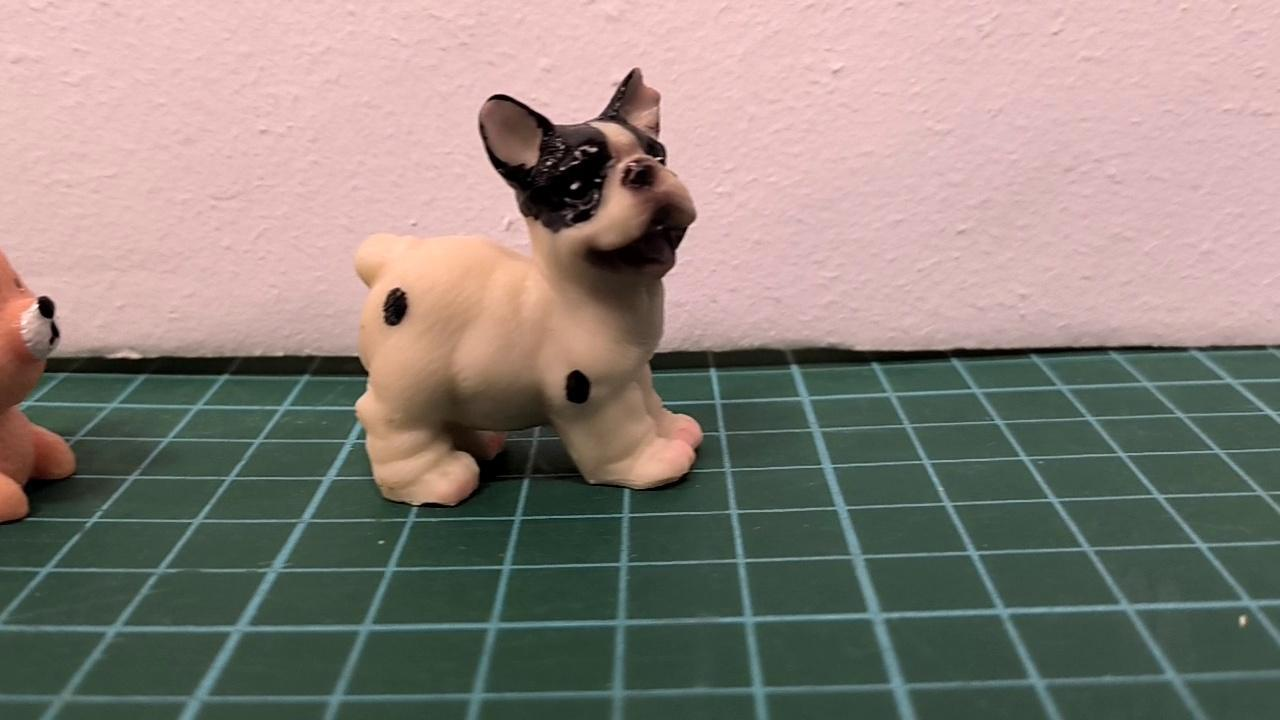pet: (354, 67, 704, 505)
